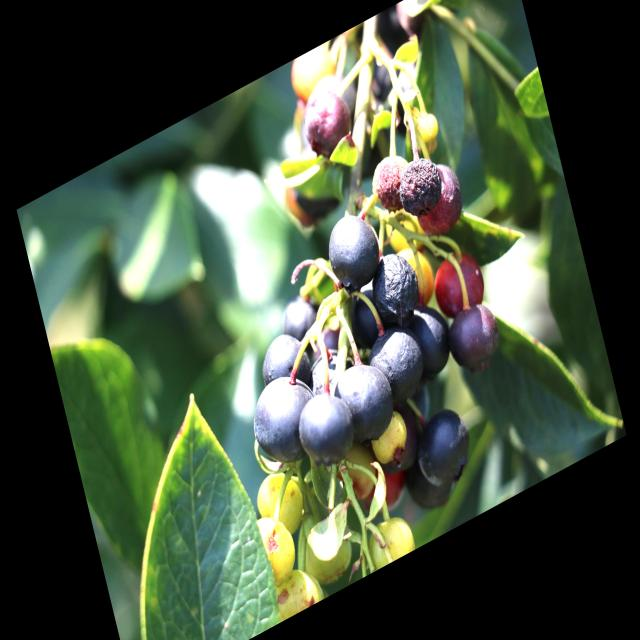blueberry: (239, 358, 328, 483), (328, 348, 402, 462), (316, 200, 390, 310), (288, 374, 362, 482), (405, 394, 480, 499), (361, 314, 431, 419), (394, 430, 467, 527), (361, 238, 429, 336), (399, 294, 461, 390), (253, 320, 317, 412), (341, 274, 396, 358), (392, 150, 445, 224), (314, 58, 366, 128), (275, 282, 325, 350), (301, 308, 352, 371)
blueberry-halfripe: (296, 76, 354, 168), (408, 154, 469, 241), (446, 294, 505, 378), (431, 245, 488, 326), (364, 146, 413, 222)
blueberry-unripe: (298, 506, 361, 593), (354, 499, 417, 576), (251, 462, 308, 544), (250, 502, 302, 584), (269, 555, 326, 623), (335, 436, 385, 506), (402, 235, 441, 308), (368, 407, 412, 471)
